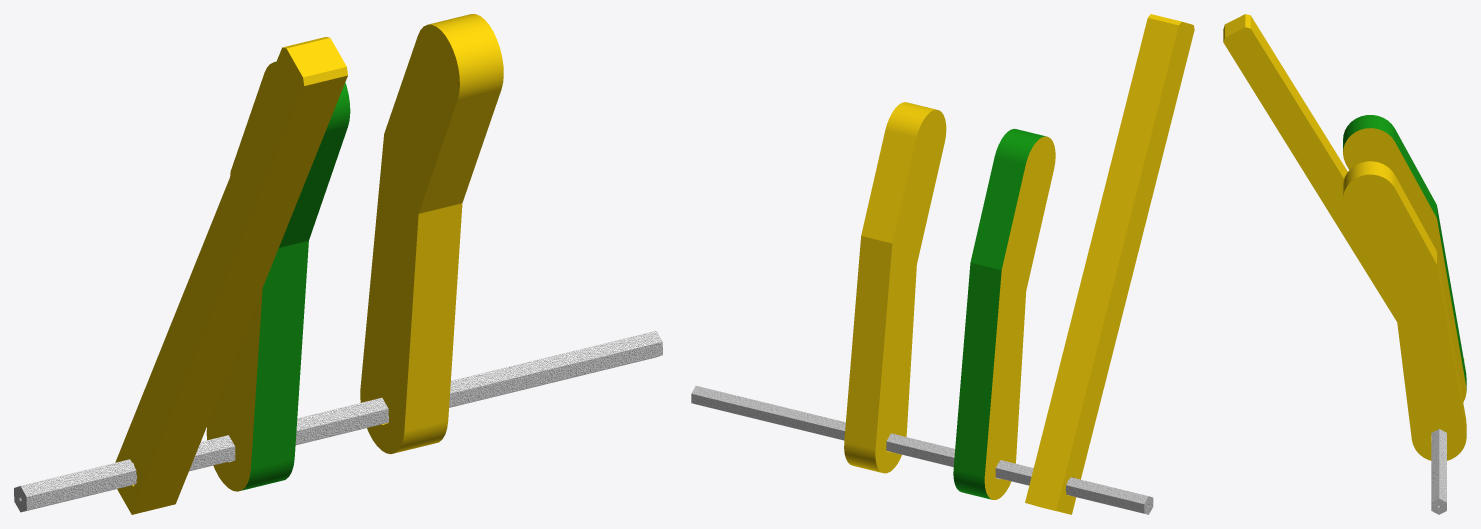
3 renders of one model, left to right at view 1: azimuth 30°, elevation 25°; view 2: azimuth 150°, elevation 25°; view 3: azimuth 270°, elevation 25°, orthographic. The views are drawn at different scales.
Parts seen in each view (by area): view 1: Solid2 (×2), Solid1 (×2); view 2: Solid2 (×2), Solid1 (×2); view 3: Solid2 (×2), Solid1 (×2).
Boxes of the visible parts, x1,y1,x2,y2 form: Solid2 (×2): (206, 14, 503, 491); Solid1 (×2): (14, 37, 662, 514); Solid2 (×2): (844, 102, 1055, 499); Solid1 (×2): (691, 14, 1194, 514); Solid2 (×2): (1343, 115, 1466, 460); Solid1 (×2): (1223, 14, 1464, 514).
Size of the model in its own units: 0.3683 by 0.3208 by 0.1968.
4 materials, 1 textured.
